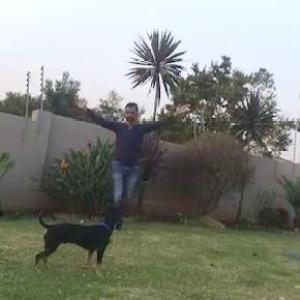takeoff: (76, 99, 195, 222)
